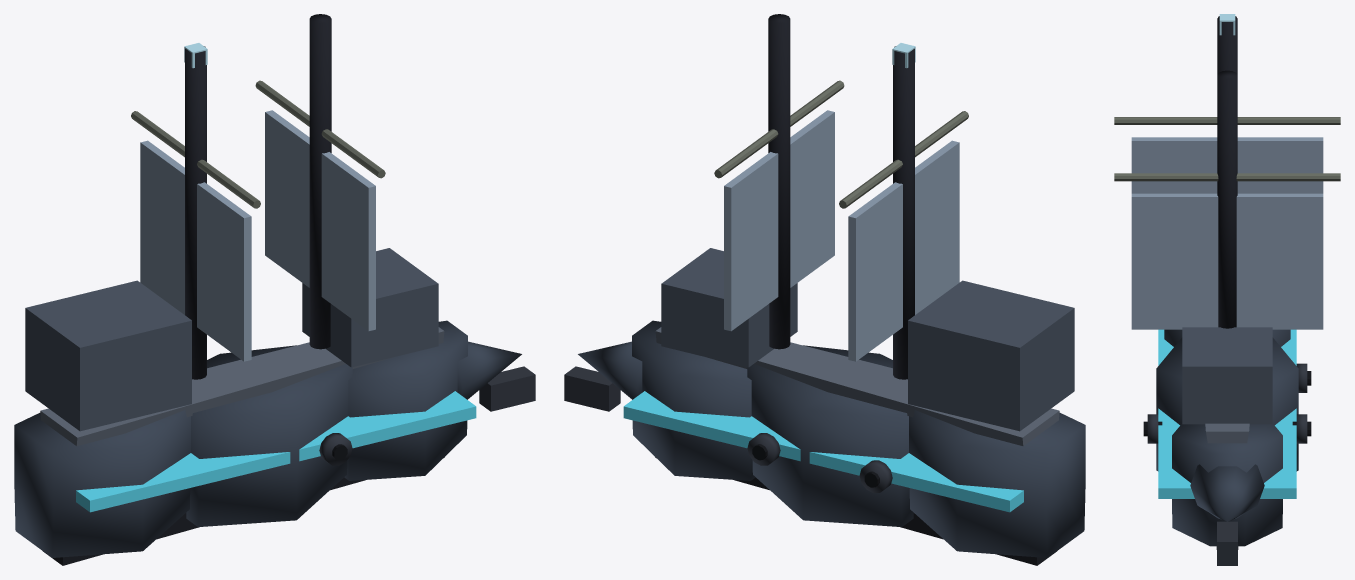
File: Phantom_Warship.obj
The picture shows the model from 3 angles, left to right: view 1: azimuth 30°, elevation 25°; view 2: azimuth 150°, elevation 25°; view 3: azimuth 270°, elevation 25°; orthographic projection. The views are drawn at different scales.
Parts seen in each view (by area): view 1: Phantom_Warship; view 2: Phantom_Warship; view 3: Phantom_Warship.
Boxes of the visible parts, <box> form: Phantom_Warship: <box>14,14,535,565</box>; Phantom_Warship: <box>564,14,1085,565</box>; Phantom_Warship: <box>1114,14,1340,565</box>.
Size of the model in its own units: 1.99 by 1.82 by 0.85.
